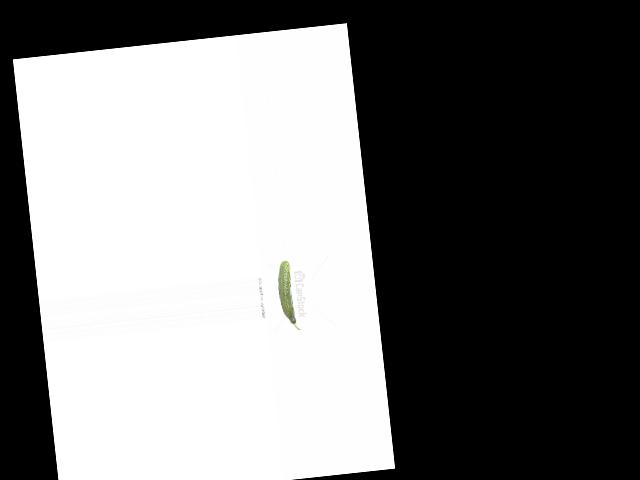cucumber: (275, 260, 299, 332)
